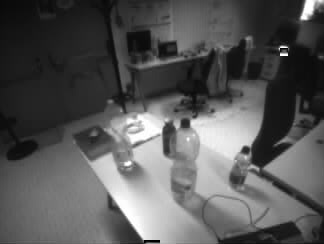Bottle: (173, 120, 196, 200), (107, 102, 132, 171), (230, 148, 250, 187), (164, 119, 175, 155)
